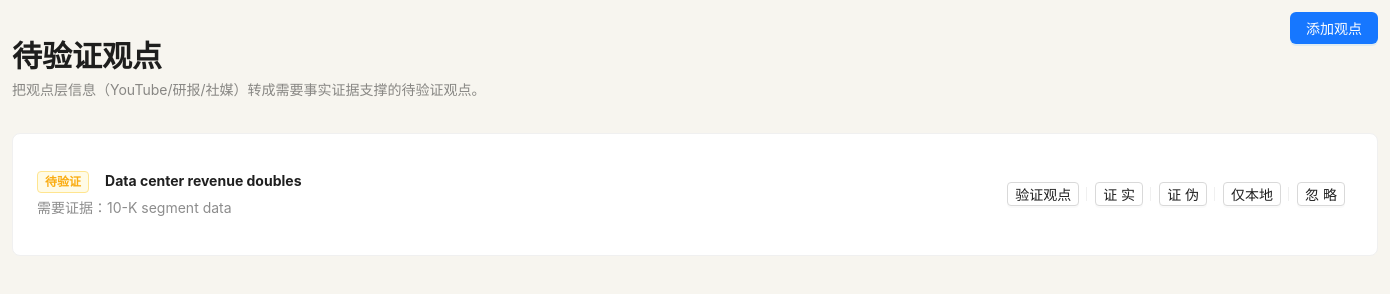
Test: InvestmentClaimsPage › lets the user refute a pending claim without running evidence search
Expected: the text "Data center revenue doubles" is shown, 105,172 -> 302,189
Click the button "证 伪". click: (1183, 194)
box: 1159,182 -> 1207,206
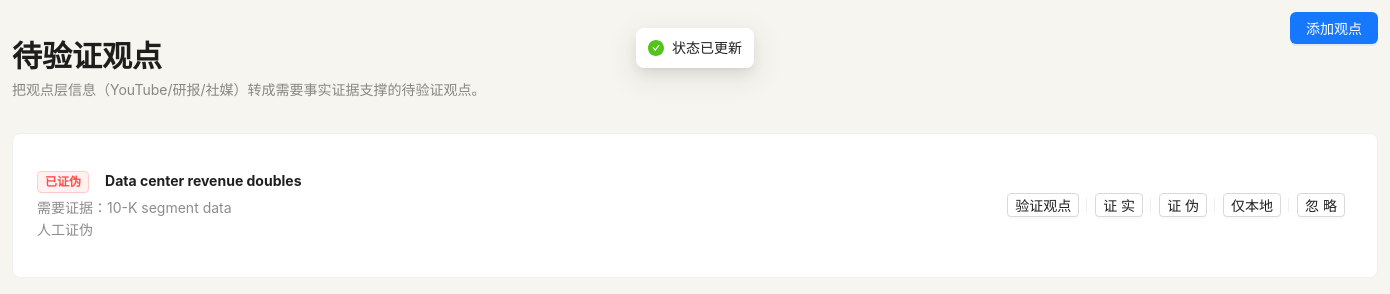
Result: the text "已证伪" is shown at 37,171 -> 89,193
